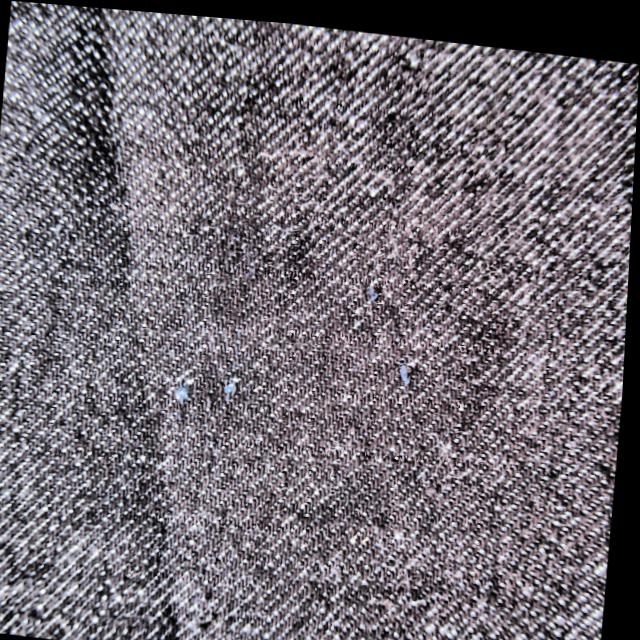Stitch: (343, 259, 416, 311), (374, 338, 437, 388), (216, 352, 259, 408), (170, 365, 206, 406)
